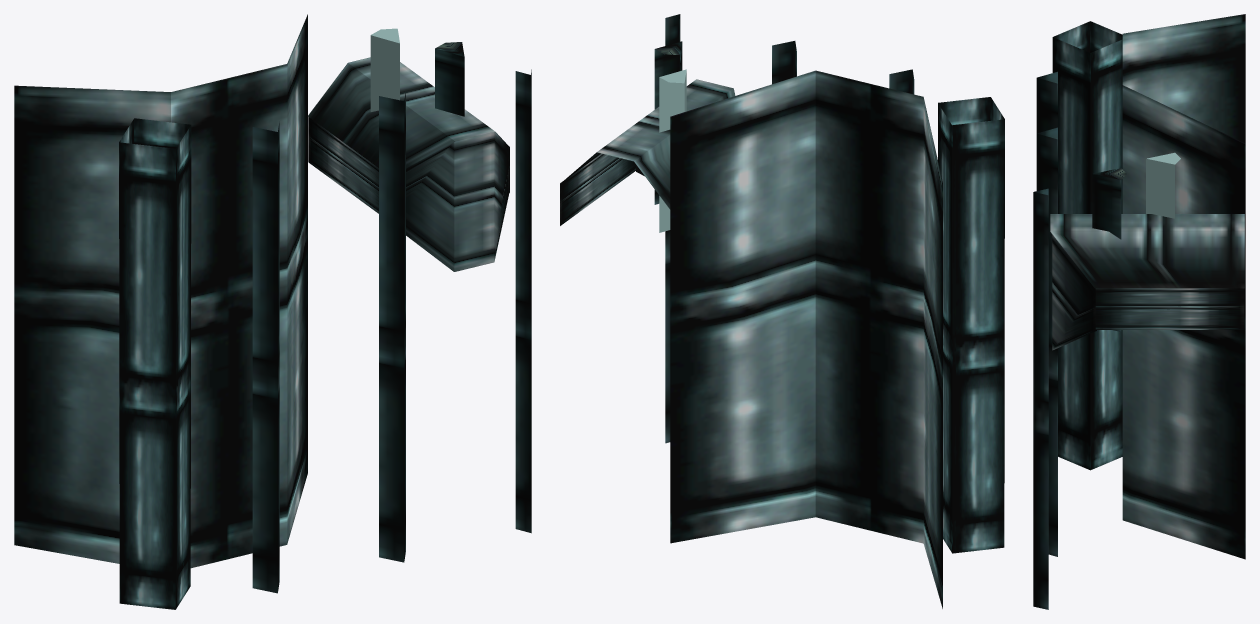
The model's file is Rohre_Verbindung_1078.glb.
3 views of the same model, side by side, from view 1: azimuth 30°, elevation 25°; view 2: azimuth 150°, elevation 25°; view 3: azimuth 270°, elevation 25° (orthographic). The views are drawn at different scales.
Visible parts, largest first — view 1: pPlaneShape57, pCylinderShape196, pCylinderShape225, pCylinderShape234, pPlaneShape61, pPlaneShape60, pCylinderShape260, pPlaneShape62, pCylinderShape274, pCylinderShape267; view 2: pPlaneShape57, pCylinderShape196, pPlaneShape60, pPlaneShape63, pCylinderShape260, pCylinderShape274, pCylinderShape267, pCylinderShape234; view 3: pPlaneShape57, pCylinderShape196, pPlaneShape60, pCylinderShape260, pPlaneShape63, pCylinderShape234, pPlaneShape61, pCylinderShape267, pCylinderShape274, pCylinderShape225.
Part boxes in pixels (x1,y1,x2,y2): pPlaneShape57: [14, 14, 307, 568]; pCylinderShape196: [119, 118, 191, 609]; pCylinderShape225: [252, 121, 279, 593]; pCylinderShape234: [379, 91, 405, 562]; pPlaneShape61: [406, 132, 509, 271]; pPlaneShape60: [308, 57, 509, 168]; pCylinderShape260: [515, 69, 531, 533]; pPlaneShape62: [308, 117, 378, 213]; pCylinderShape274: [370, 28, 399, 111]; pCylinderShape267: [435, 42, 464, 116]; pPlaneShape57: [670, 70, 942, 608]; pCylinderShape196: [938, 97, 1004, 553]; pPlaneShape60: [561, 79, 735, 209]; pPlaneShape63: [560, 153, 635, 225]; pCylinderShape260: [665, 14, 680, 443]; pCylinderShape274: [659, 69, 686, 232]; pCylinderShape267: [654, 41, 682, 204]; pCylinderShape234: [772, 41, 796, 84]; pPlaneShape57: [1122, 14, 1245, 559]; pCylinderShape196: [1052, 21, 1122, 470]; pPlaneShape60: [1050, 214, 1244, 288]; pCylinderShape260: [1033, 188, 1048, 609]; pPlaneShape63: [1095, 288, 1244, 329]; pCylinderShape234: [1036, 127, 1057, 556]; pPlaneShape61: [1052, 235, 1096, 350]; pCylinderShape267: [1092, 168, 1126, 331]; pCylinderShape274: [1146, 152, 1180, 218]; pCylinderShape225: [1036, 71, 1057, 133].
Bounding box in the file's own units: 0.9433 × 1.05 × 0.4642.
Materials: 11 (10 with a texture image).
